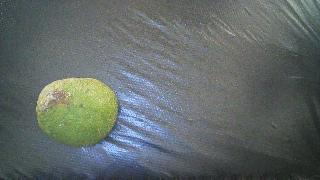DESECHO: (36, 78, 118, 147)
